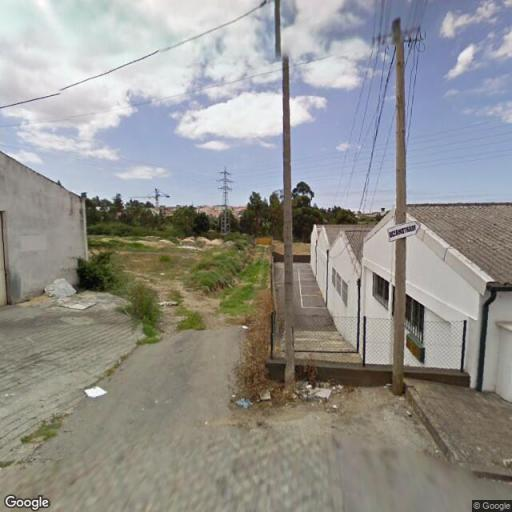ss_3: (213, 166, 237, 242)
